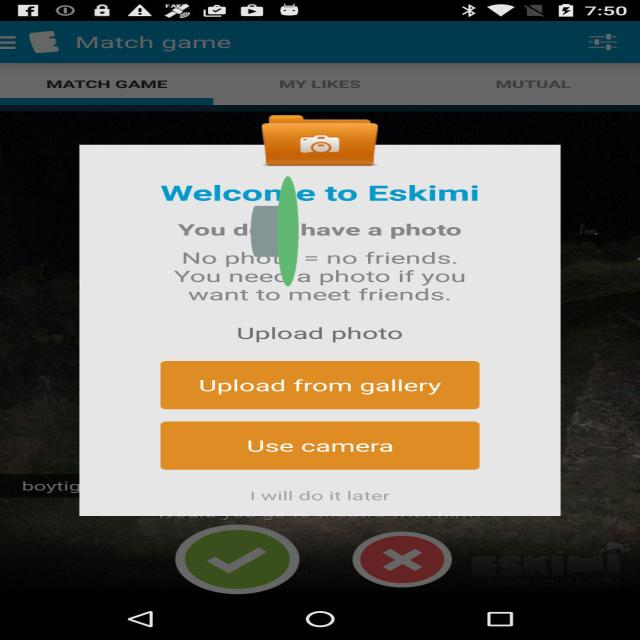social proof: (250, 108, 298, 354)
